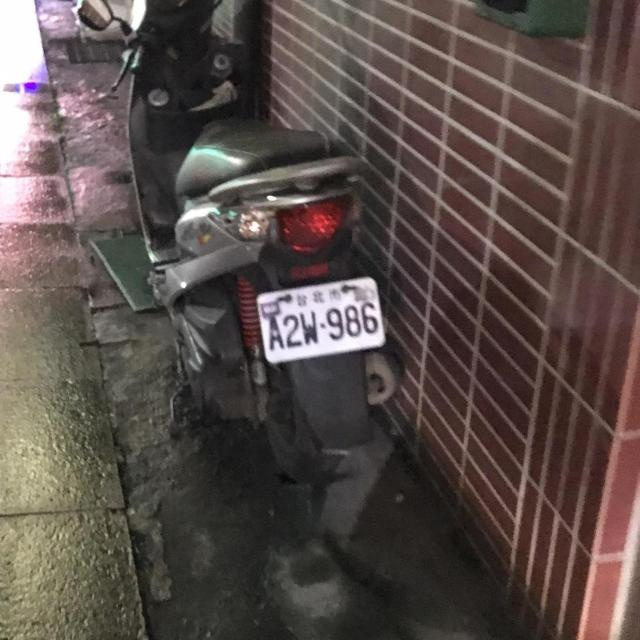W: (254, 276, 389, 364)
